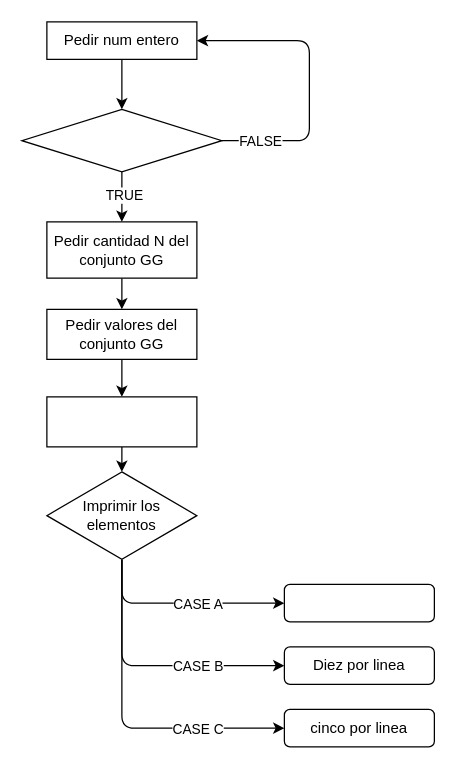
Image size: 456x769. Some labels were removed from this diagram. The shapes that lost their labels are listed below. From the top down, each one's centre as x and y in pixels, then its label:
the point at 121,140: Si N < 25
the point at 121,421: invertir los valores del conjunto GG
the point at 358,602: Uno por linea
